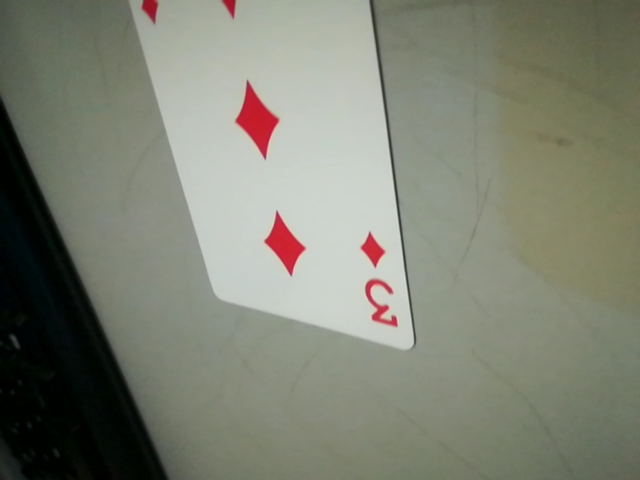fk 3: (350, 224, 409, 341)
